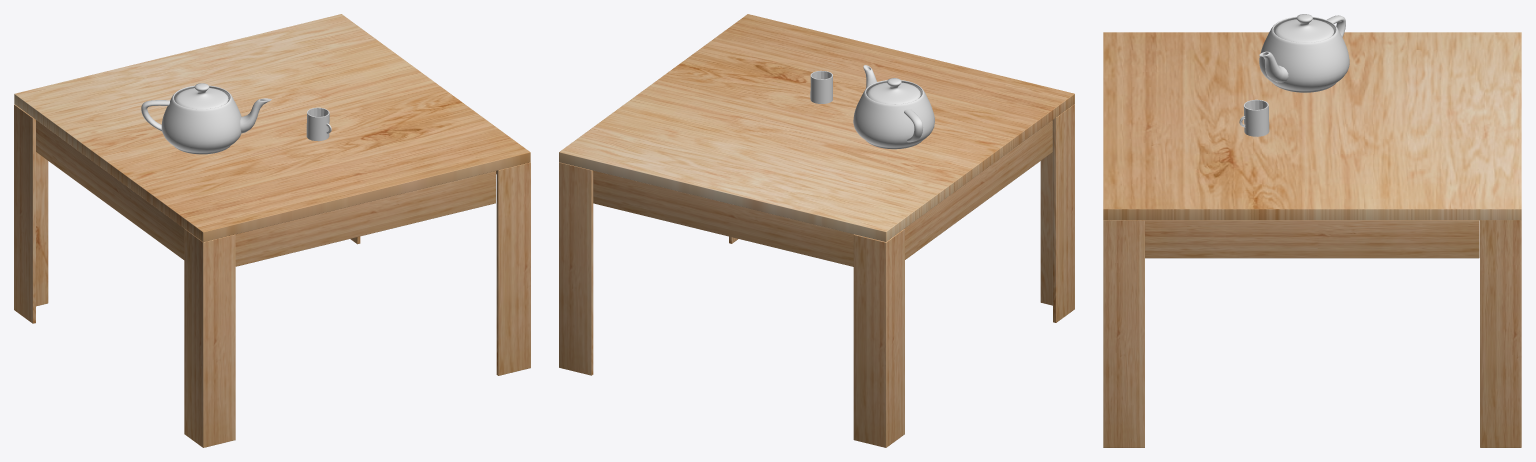
File: Mesahp.fbx
3 renders of one model, left to right at view 1: azimuth 30°, elevation 25°; view 2: azimuth 150°, elevation 25°; view 3: azimuth 270°, elevation 25°, orthographic. The views are drawn at different scales.
Parts seen in each view (by area): view 1: Tabla, Pata, Tablon, Pata001, Pata003, Teapot001, Tablon003, Cylinder001; view 2: Tabla, Pata003, Tablon002, Pata002, Pata, Tablon003, Teapot001, Cylinder001; view 3: Tabla, Tablon001, Pata001, Pata002, Teapot001, Cylinder001.
Boxes of the visible parts, x1,y1,x2,y2 form: Tabla: [14, 14, 530, 242]; Pata: [184, 229, 235, 447]; Tablon: [235, 171, 495, 266]; Pata001: [496, 162, 530, 375]; Pata003: [14, 104, 48, 323]; Teapot001: [141, 83, 271, 154]; Tablon003: [36, 120, 184, 259]; Cylinder001: [306, 107, 329, 141]; Tabla: [559, 14, 1074, 241]; Pata003: [853, 229, 904, 447]; Tablon002: [593, 170, 853, 266]; Pata002: [559, 162, 593, 375]; Pata: [1040, 104, 1074, 322]; Tablon003: [904, 120, 1052, 259]; Teapot001: [853, 65, 934, 149]; Cylinder001: [810, 70, 832, 103]; Tabla: [1103, 32, 1521, 220]; Tablon001: [1145, 220, 1479, 258]; Pata001: [1103, 220, 1144, 447]; Pata002: [1480, 220, 1521, 447]; Teapot001: [1259, 14, 1349, 92]; Cylinder001: [1243, 99, 1269, 136].
Bounding box in the file's own units: 100 × 80.12 × 100.
3 materials, 3 textured.
